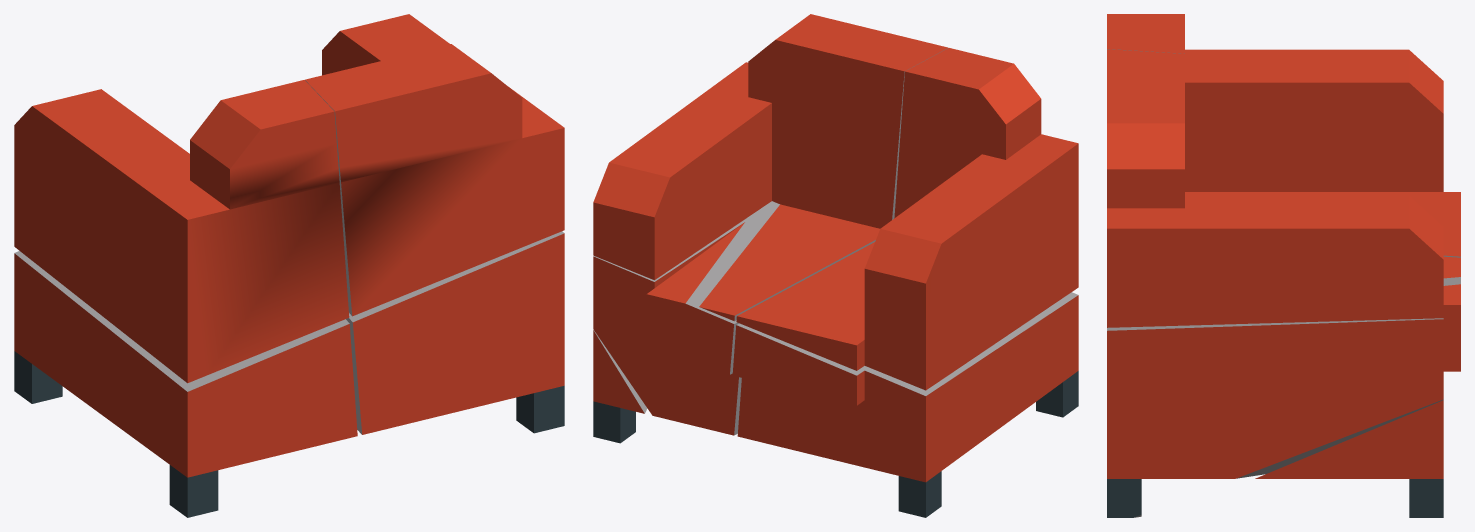
File: Sofa_Small_DEST.fbx
3 views of the same model, side by side, from view 1: azimuth 30°, elevation 25°; view 2: azimuth 150°, elevation 25°; view 3: azimuth 270°, elevation 25° (orthographic). The views are drawn at different scales.
Visible parts, largest first — view 1: model:bedSingle:sideTableDrawers:loungeChair:loungeChair, model:bedSingle:sideTableDrawers:loungeChair:loungeChair.001, model:bedSingle:sideTableDrawers:loungeChair:loungeChair.002, model:bedSingle:sideTableDrawers:loungeChair:loungeChair.004; view 2: model:bedSingle:sideTableDrawers:loungeChair:loungeChair, model:bedSingle:sideTableDrawers:loungeChair:loungeChair.001, model:bedSingle:sideTableDrawers:loungeChair:loungeChair.002, model:bedSingle:sideTableDrawers:loungeChair:loungeChair.004, model:bedSingle:sideTableDrawers:loungeChair:loungeChair.003; view 3: model:bedSingle:sideTableDrawers:loungeChair:loungeChair.001, model:bedSingle:sideTableDrawers:loungeChair:loungeChair.004, model:bedSingle:sideTableDrawers:loungeChair:loungeChair, model:bedSingle:sideTableDrawers:loungeChair:loungeChair.003.
Boxes of the visible parts, x1,y1,x2,y2 form: model:bedSingle:sideTableDrawers:loungeChair:loungeChair: (14,80,349,383); model:bedSingle:sideTableDrawers:loungeChair:loungeChair.001: (305,14,564,316); model:bedSingle:sideTableDrawers:loungeChair:loungeChair.002: (14,251,357,517); model:bedSingle:sideTableDrawers:loungeChair:loungeChair.004: (346,231,564,434); model:bedSingle:sideTableDrawers:loungeChair:loungeChair: (736,48,1078,390); model:bedSingle:sideTableDrawers:loungeChair:loungeChair.001: (593,14,948,321); model:bedSingle:sideTableDrawers:loungeChair:loungeChair.002: (732,292,1078,517); model:bedSingle:sideTableDrawers:loungeChair:loungeChair.004: (593,201,779,435); model:bedSingle:sideTableDrawers:loungeChair:loungeChair.003: (593,330,647,443); model:bedSingle:sideTableDrawers:loungeChair:loungeChair.001: (1107,49,1460,327); model:bedSingle:sideTableDrawers:loungeChair:loungeChair.004: (1107,277,1460,517); model:bedSingle:sideTableDrawers:loungeChair:loungeChair: (1107,14,1460,257); model:bedSingle:sideTableDrawers:loungeChair:loungeChair.003: (1255,400,1443,517).
Size of the model in its own units: 3.5 by 3.29 by 2.93.
